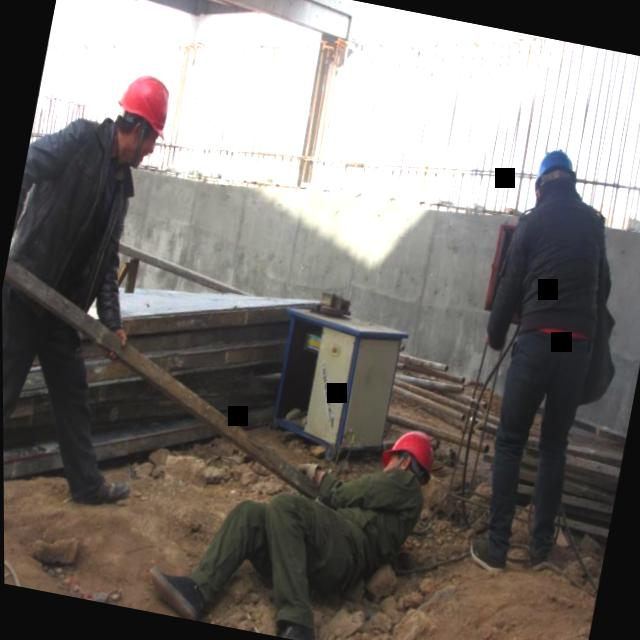Fall-Detected: (123, 359, 459, 640)
